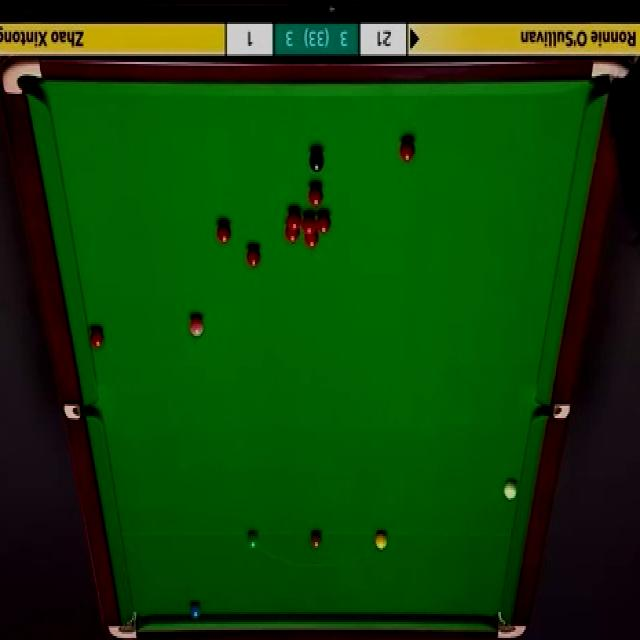pocket: (4, 60, 45, 97), (106, 608, 140, 640), (590, 58, 616, 97), (495, 611, 529, 640), (65, 403, 99, 422), (536, 403, 572, 419)
